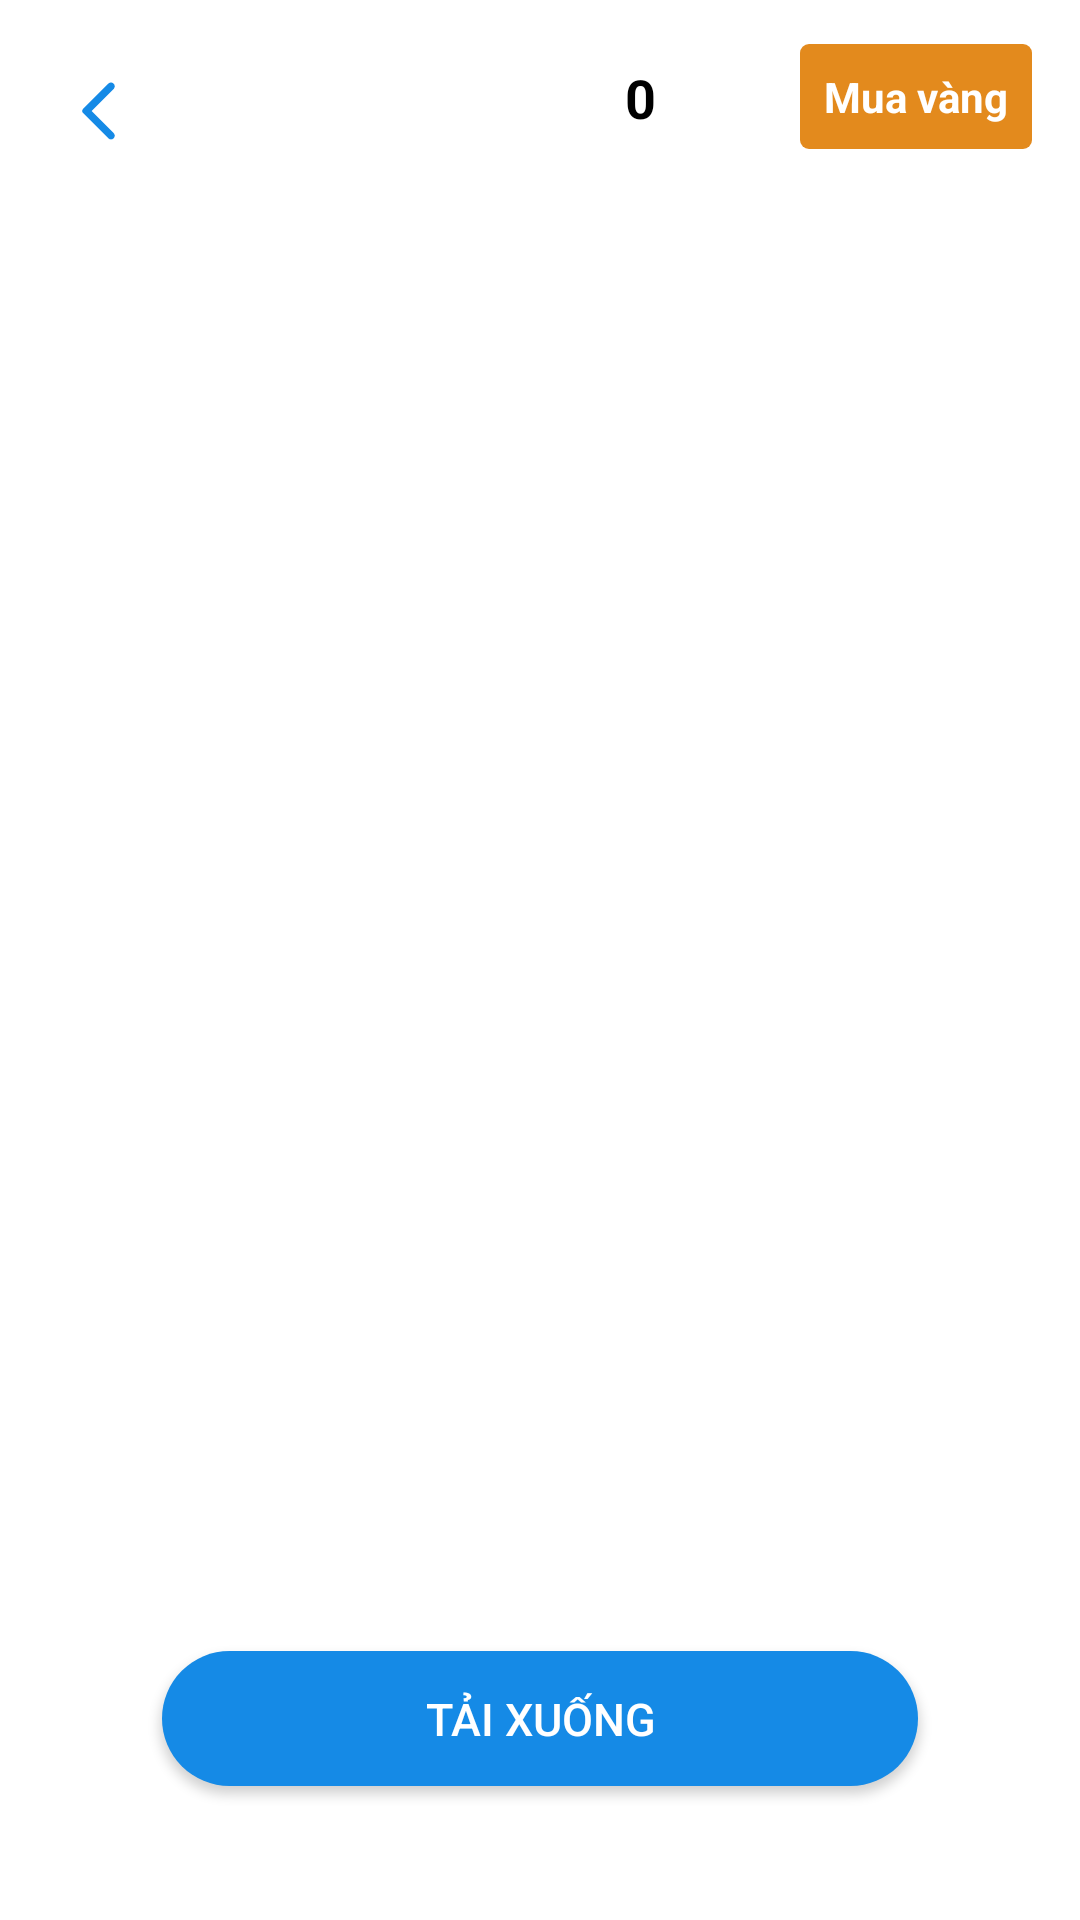

Where icons sit on this 1080px×1920px app screen, as Rect(x1, y1, x2, y2):
arrow back: Rect(82, 82, 115, 140)
